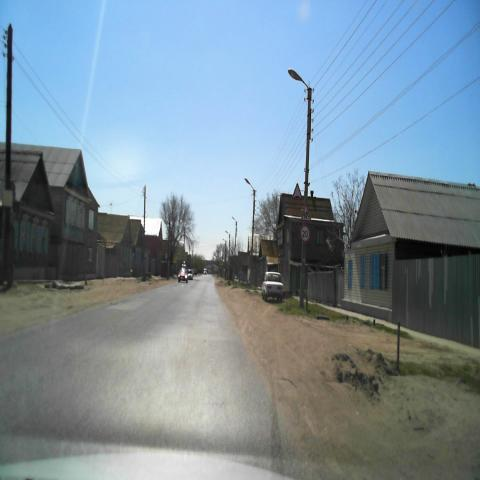3_24: (300, 225, 310, 242)
